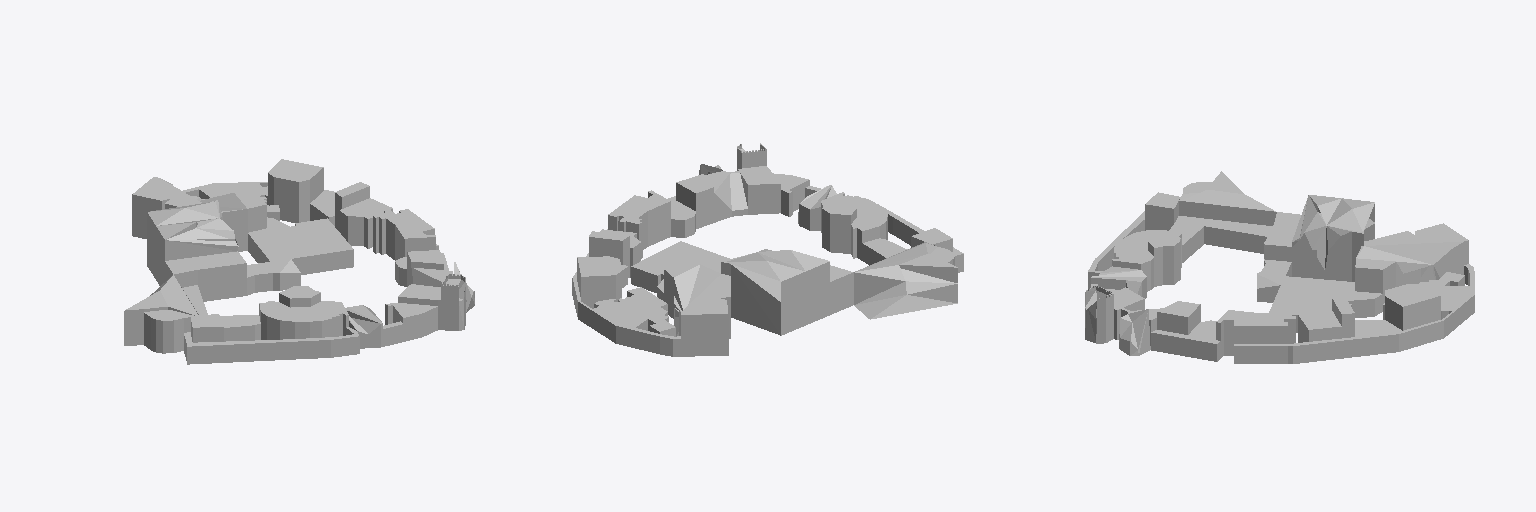
Rendered from castle02Normals.obj.
3 renders of one model, left to right at view 1: azimuth 30°, elevation 25°; view 2: azimuth 150°, elevation 25°; view 3: azimuth 270°, elevation 25°, orthographic.
Visible parts, largest first — view 1: group_0_ID4; view 2: group_0_ID4; view 3: group_0_ID4.
Part boxes in pixels (x1,y1,x2,y2): group_0_ID4: (124, 159, 474, 364); group_0_ID4: (572, 143, 963, 356); group_0_ID4: (1085, 171, 1474, 363).
Bounding box in the file's own units: 97.89 × 17.47 × 103.